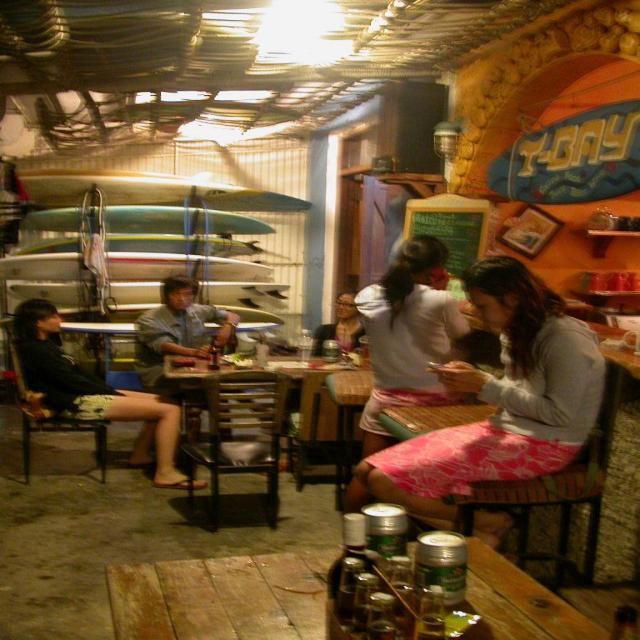Chair: (440, 356, 628, 590), (183, 360, 295, 534), (0, 328, 114, 490), (130, 330, 252, 472), (288, 366, 382, 499)
